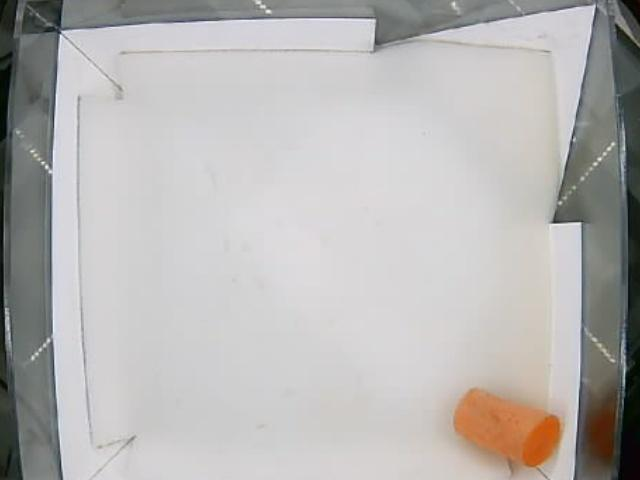Carrot: (455, 386, 562, 468)
